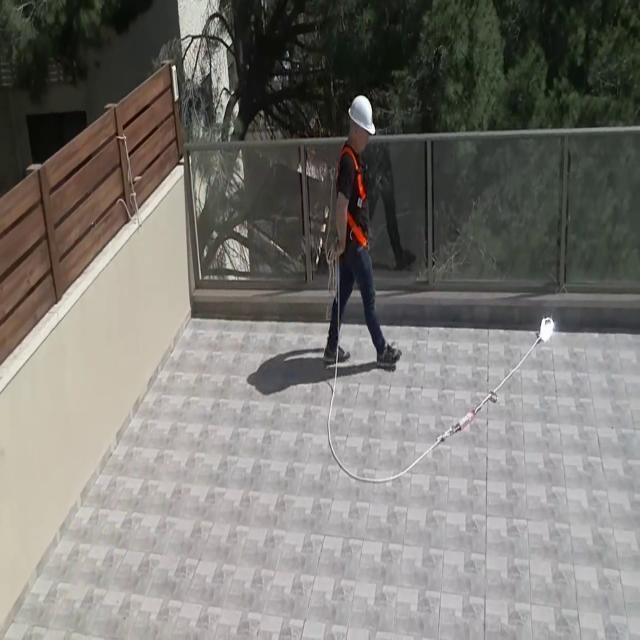Arnes_seguridad: (326, 142, 379, 260)
